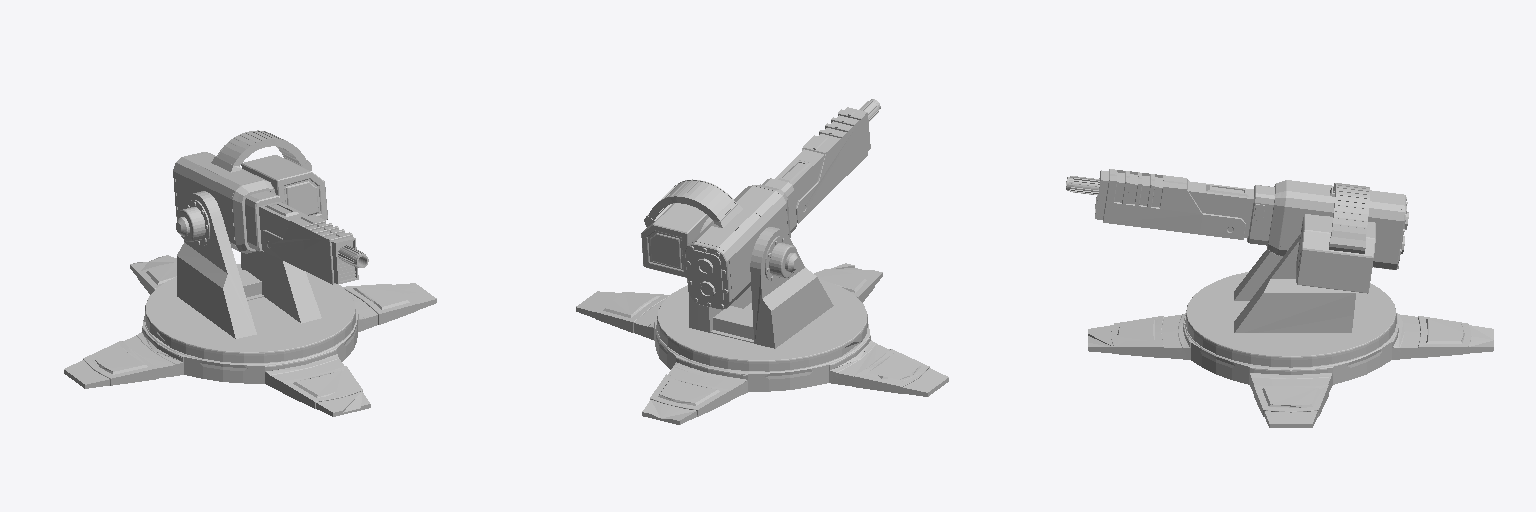
The model's file is Torreta1.obj.
3 renders of one model, left to right at view 1: azimuth 30°, elevation 25°; view 2: azimuth 150°, elevation 25°; view 3: azimuth 270°, elevation 25°, orthographic.
Visible parts, largest first — view 1: Base, Gun, Base_support_Base.001, BarrelGuard, Base_squads, Motor; view 2: Base, Gun, Base_support_Base.001, BarrelGuard, Base_squads, Motor; view 3: Base, Gun, Base_support_Base.001, BarrelGuard, Base_squads.
Part boxes in pixels (bbox=[...]): Base: bbox=[64, 255, 436, 416]; Gun: bbox=[173, 130, 368, 283]; Base_support_Base.001: bbox=[177, 191, 321, 338]; BarrelGuard: bbox=[261, 215, 352, 284]; Base_squads: bbox=[93, 263, 407, 394]; Motor: bbox=[176, 200, 209, 245]; Base: bbox=[576, 263, 948, 424]; Gun: bbox=[641, 99, 880, 309]; Base_support_Base.001: bbox=[689, 217, 833, 348]; BarrelGuard: bbox=[796, 109, 867, 223]; Base_squads: bbox=[605, 270, 919, 402]; Motor: bbox=[765, 236, 798, 281]; Base: bbox=[1088, 272, 1493, 427]; Gun: bbox=[1066, 170, 1408, 293]; Base_support_Base.001: bbox=[1234, 216, 1355, 332]; BarrelGuard: bbox=[1103, 169, 1245, 239]; Base_squads: bbox=[1119, 319, 1463, 404].
Size of the model in its own units: 5.17 by 2.43 by 5.45.